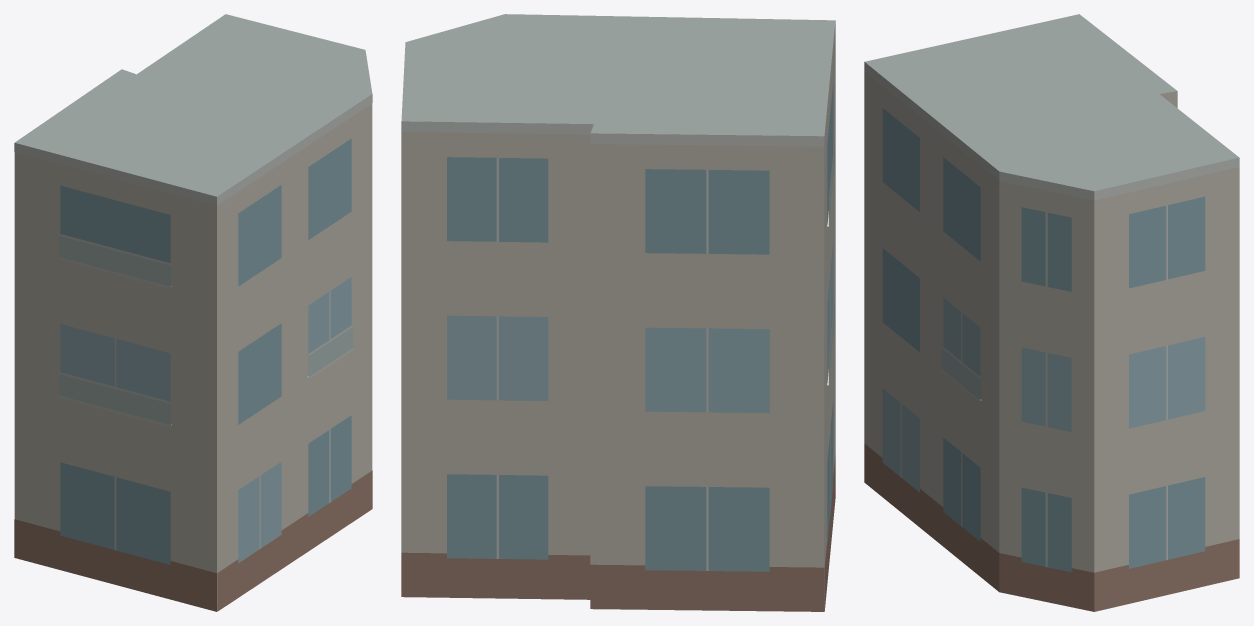
The model's file is survey-upis-32957384.glb.
3 renders of one model, left to right at view 1: azimuth 30°, elevation 25°; view 2: azimuth 150°, elevation 25°; view 3: azimuth 270°, elevation 25°, orthographic. The views are drawn at different scales.
Parts seen in each view (by area): view 1: survey-upis-32957384.tmp; view 2: survey-upis-32957384.tmp; view 3: survey-upis-32957384.tmp.
Boxes of the visible parts, box(x1,y1,x2,y2) form: survey-upis-32957384.tmp: box(14, 14, 372, 611); survey-upis-32957384.tmp: box(401, 14, 835, 611); survey-upis-32957384.tmp: box(864, 14, 1239, 611).
Bounding box in the file's own units: 9.95 × 11 × 8.9.
